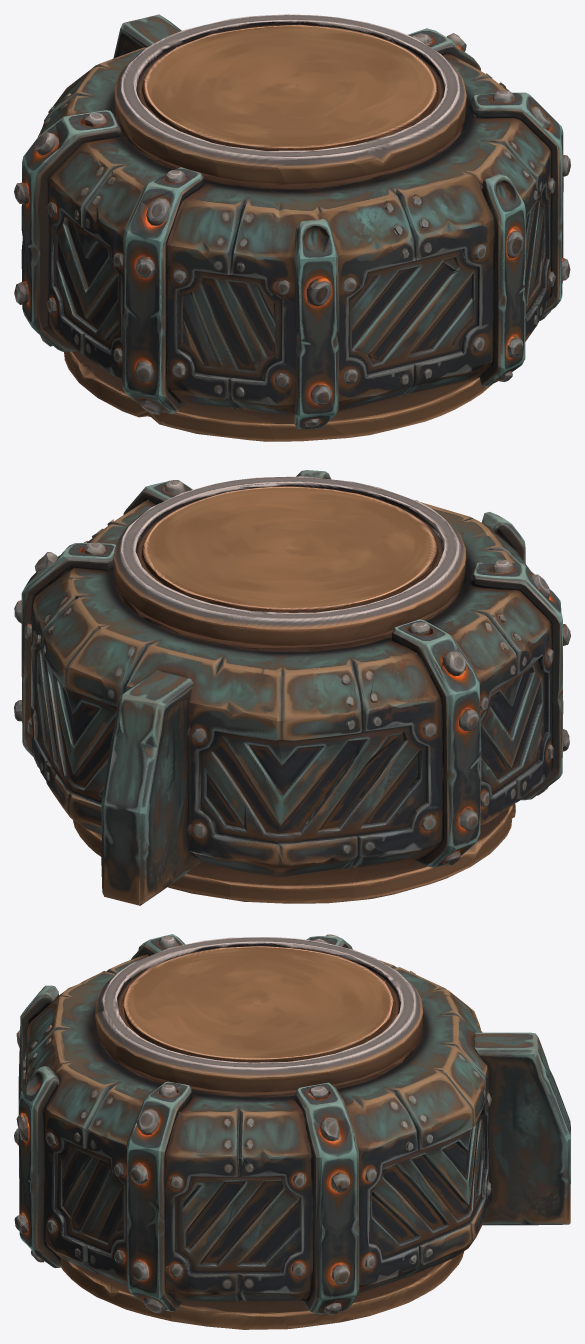
File: 01_base_plate.glb
3 views of the same model, one above another, from view 1: azimuth 30°, elevation 25°; view 2: azimuth 150°, elevation 25°; view 3: azimuth 270°, elevation 25° (orthographic). The views are drawn at different scales.
Visible parts, largest first — view 1: output_unwrapped; view 2: output_unwrapped; view 3: output_unwrapped.
Boxes of the visible parts, bbox=[...] form: output_unwrapped: bbox=[14, 14, 570, 441]; output_unwrapped: bbox=[14, 470, 570, 905]; output_unwrapped: bbox=[14, 934, 570, 1329].
Bounding box in the file's own units: 1.68 × 0.9088 × 1.89.
1 material, 1 textured.
